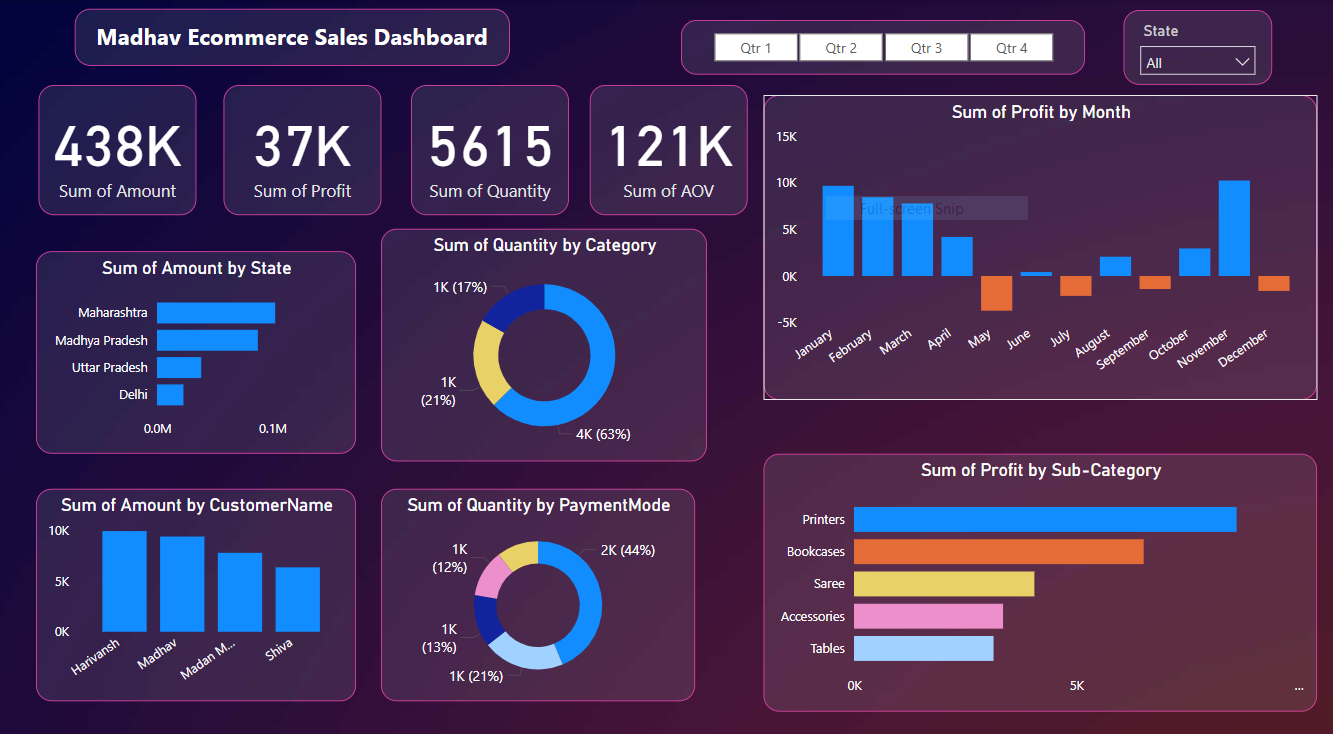

The page's visual inventory and layout, read from the dashboard file:
{"tool":"powerbi","page":{"name":"Page 1","canvas":[1280,720],"ordinal":0},"visuals":[{"type":"textbox","box":[75,8.3,414.3,54.8],"z":0},{"type":"columnChart","fields":{"Y":["Details.Profit"],"Category":["Orders.Order Date.Variation.Date Hierarchy.Month"]},"box":[731,90.5,527.4,290.5],"z":1000},{"type":"barChart","fields":{"Category":["Details.Sub-Category"],"Y":["Details.Profit"]},"box":[731,432.1,527.4,245.2],"z":2000},{"type":"donutChart","fields":{"Category":["Details.Category"],"Y":["Details.Quantity"]},"box":[366.7,217.9,310.7,221.4],"z":3000},{"type":"donutChart","fields":{"Y":["Details.Quantity"],"Category":["Details.PaymentMode"]},"box":[366.7,465.5,298.8,202.4],"z":4000},{"type":"card","fields":{"Values":["Details.Amount"]},"box":[40.5,81,150,123.8],"z":5000},{"type":"card","fields":{"Values":["Details.Profit"]},"box":[216.7,81,150,123.8],"z":6000},{"type":"card","fields":{"Values":["Details.Quantity"]},"box":[395.2,81,150,123.8],"z":7000},{"type":"card","fields":{"Values":["Details.AOV"]},"box":[565.5,81,150,123.8],"z":8000},{"type":"barChart","fields":{"Category":["Orders.State"],"Y":["Details.Amount"]},"box":[38.1,239.3,304.8,192.9],"z":9000},{"type":"columnChart","fields":{"Category":["Orders.CustomerName"],"Y":["Details.Amount"]},"box":[38,465,305,202],"z":10000},{"type":"slicer","fields":{"Values":["Orders.Order Date.Variation.Date Hierarchy.Quarter"]},"box":[652.4,19,384.5,52.4],"z":11000},{"type":"slicer","fields":{"Values":["Orders.State"]},"box":[1073.8,9.5,141.7,71.4],"z":12000}]}

Visuals, with their boxes in screenshot pixels (x1, y1, x2, y2), scaled from the page's 1280x720 canvas onto the 1333x734 screenshot:
textbox: <region>78, 8, 510, 64</region>
columnChart - Details.Profit x Orders.Order Date.Variation.Date Hierarchy.Month: <region>761, 92, 1311, 388</region>
barChart - Details.Sub-Category x Details.Profit: <region>761, 441, 1311, 690</region>
donutChart - Details.Category x Details.Quantity: <region>382, 222, 705, 448</region>
donutChart - Details.Quantity x Details.PaymentMode: <region>382, 475, 693, 681</region>
card - Details.Amount: <region>42, 83, 198, 209</region>
card - Details.Profit: <region>226, 83, 382, 209</region>
card - Details.Quantity: <region>412, 83, 568, 209</region>
card - Details.AOV: <region>589, 83, 745, 209</region>
barChart - Orders.State x Details.Amount: <region>40, 244, 357, 441</region>
columnChart - Orders.CustomerName x Details.Amount: <region>40, 474, 357, 680</region>
slicer - Orders.Order Date.Variation.Date Hierarchy.Quarter: <region>679, 19, 1080, 73</region>
slicer - Orders.State: <region>1118, 10, 1266, 82</region>
